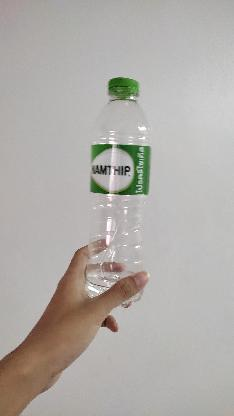Plastic Bottle: (82, 70, 154, 304)
